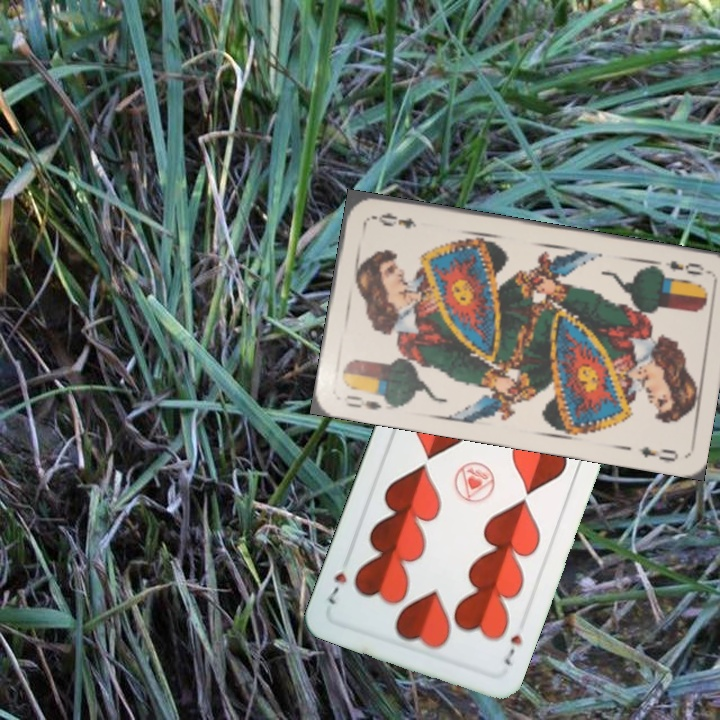EO: (661, 256, 713, 278), (341, 391, 385, 413)
H7: (500, 630, 525, 668)
